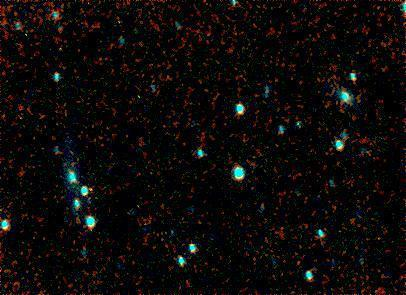star: (76, 176, 106, 206)
